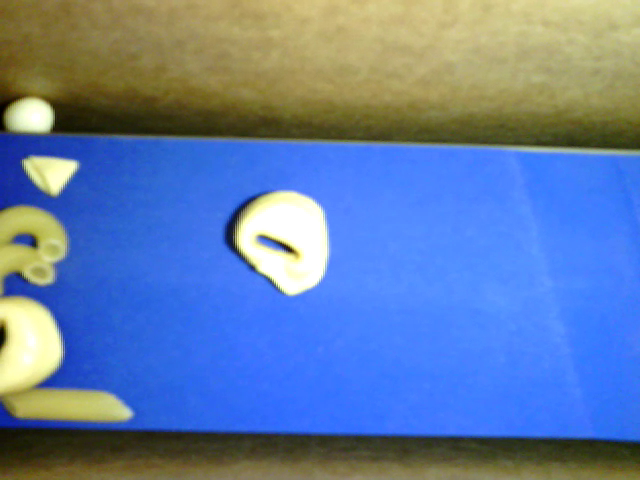elbow: (1, 205, 69, 262), (1, 243, 56, 297)
penne: (1, 392, 134, 421)
tortellini: (233, 190, 329, 297), (1, 295, 67, 395)
